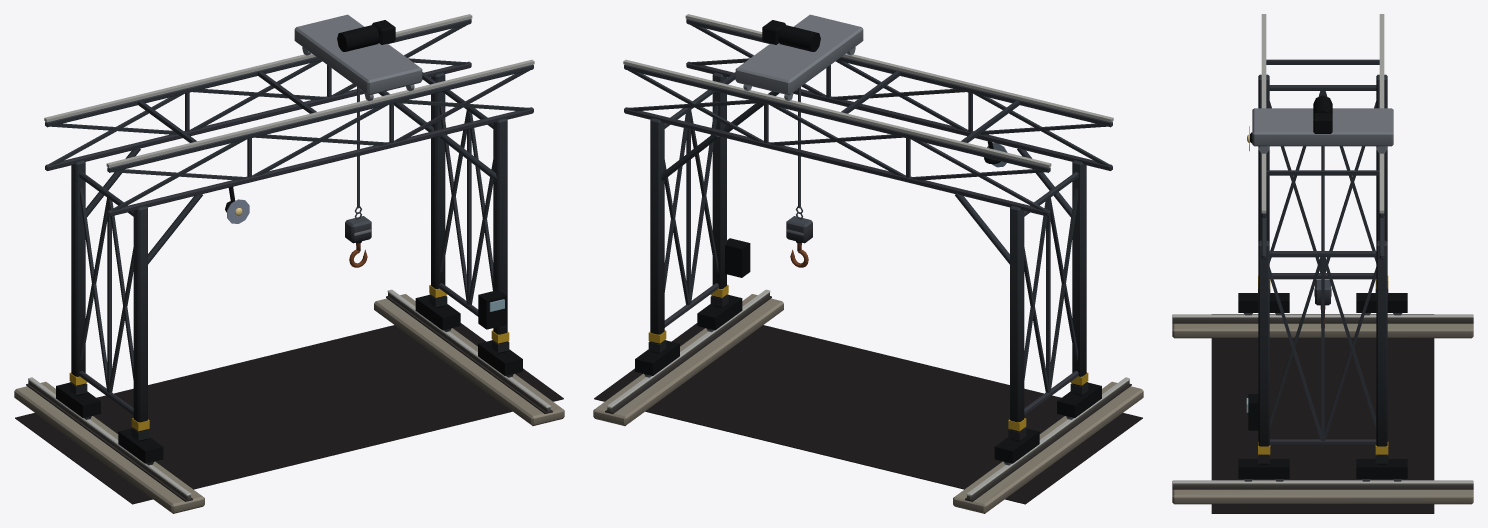
Rendered from gantry-crane.glb.
3 renders of one model, left to right at view 1: azimuth 30°, elevation 25°; view 2: azimuth 150°, elevation 25°; view 3: azimuth 270°, elevation 25°, orthographic. The views are drawn at different scales.
Parts seen in each view (by area): view 1: gantry_crane; view 2: gantry_crane; view 3: gantry_crane.
Part boxes in pixels (left/top/right/bottom): gantry_crane: left=14, top=14, right=564, bottom=513; gantry_crane: left=593, top=14, right=1143, bottom=513; gantry_crane: left=1172, top=14, right=1473, bottom=513.
Bounding box in the file's own units: 7.2 × 5.78 × 4.6.
